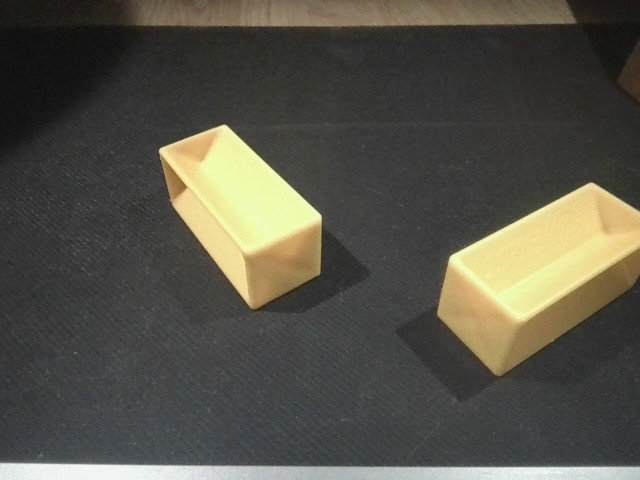YellowSample: (434, 178, 640, 382), (155, 121, 326, 313)
